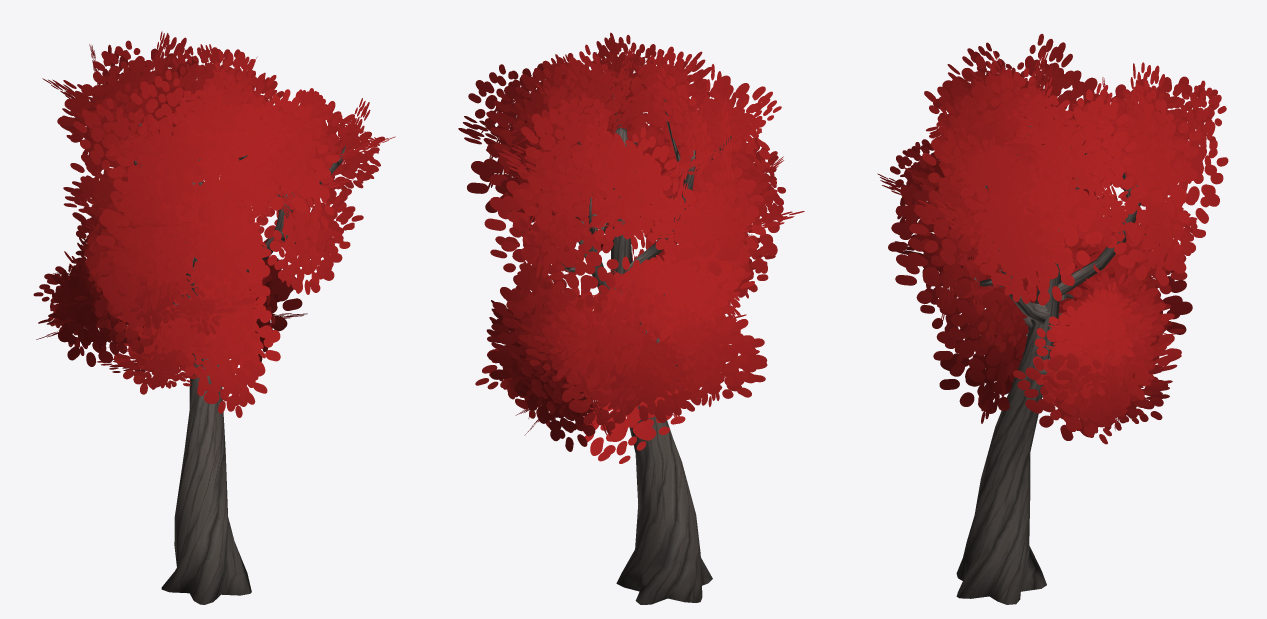
Rendered from twisted_tree_free_model_b_b_b_lo.glb.
The picture shows the model from 3 angles, left to right: view 1: azimuth 30°, elevation 25°; view 2: azimuth 150°, elevation 25°; view 3: azimuth 270°, elevation 25°; orthographic projection. The views are drawn at different scales.
Parts seen in each view (by area): view 1: TwistedTree_5; view 2: TwistedTree_5; view 3: TwistedTree_5.
Boxes of the visible parts, x1=… form: TwistedTree_5: x1=33, y1=31, x2=395, y2=604; TwistedTree_5: x1=458, y1=32, x2=804, y2=604; TwistedTree_5: x1=877, y1=34, x2=1228, y2=604.
Bounding box in the file's own units: 11.49 × 16.33 × 10.74.
2 materials, 2 textured.
